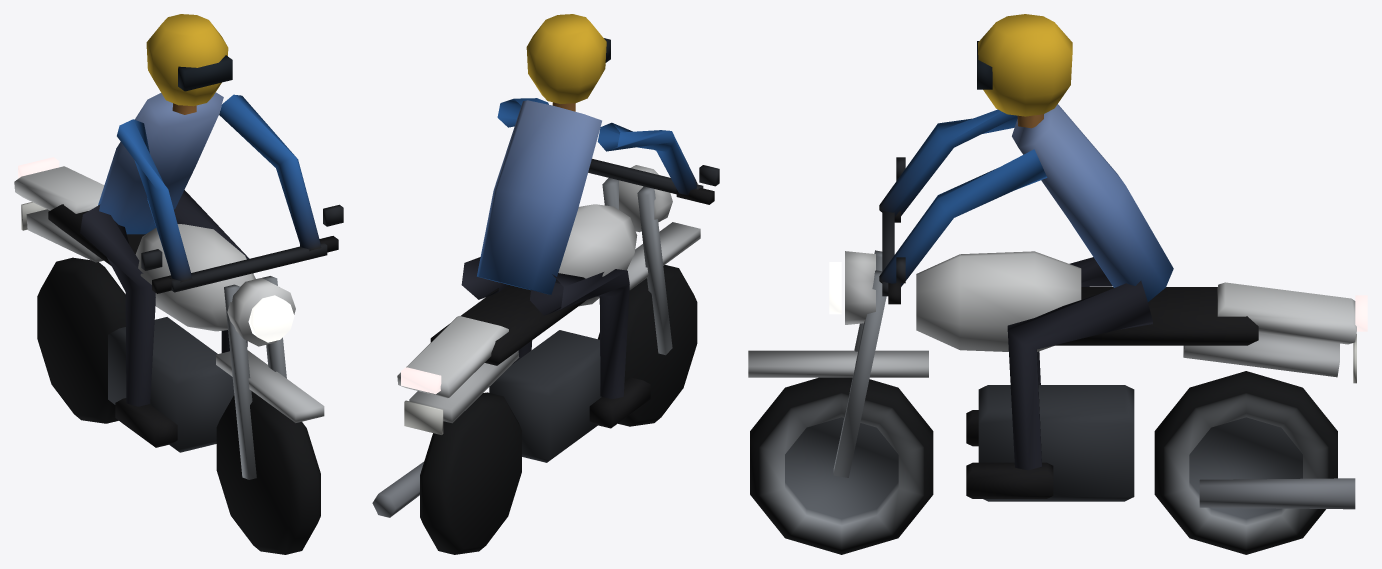
File: moto.glb
3 views of the same model, side by side, from view 1: azimuth 30°, elevation 25°; view 2: azimuth 150°, elevation 25°; view 3: azimuth 270°, elevation 25° (orthographic). The views are drawn at different scales.
Parts seen in each view (by area): view 1: moto; view 2: moto; view 3: moto.
Boxes of the visible parts, <box> form: moto: <box>14,14,343,554</box>; moto: <box>372,14,719,554</box>; moto: <box>748,14,1367,554</box>.
Bounding box in the file's own units: 0.83 × 1.86 × 1.99.
